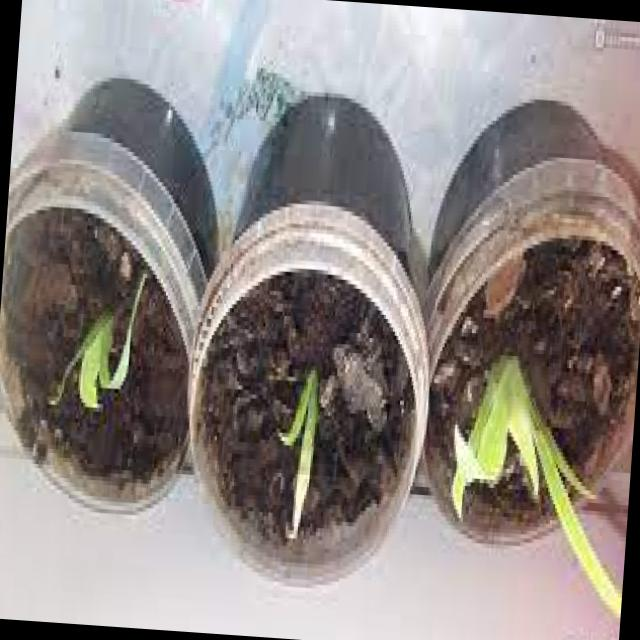leaf: (540, 446, 620, 621), (455, 353, 520, 535), (96, 273, 144, 389), (503, 360, 537, 498), (287, 386, 316, 538), (277, 374, 316, 445), (78, 331, 102, 407), (48, 361, 71, 404), (71, 346, 83, 362)
plant: (434, 334, 637, 636), (34, 255, 160, 426), (261, 350, 337, 550)
pot: (171, 65, 462, 603), (405, 69, 640, 573), (0, 56, 236, 529)
